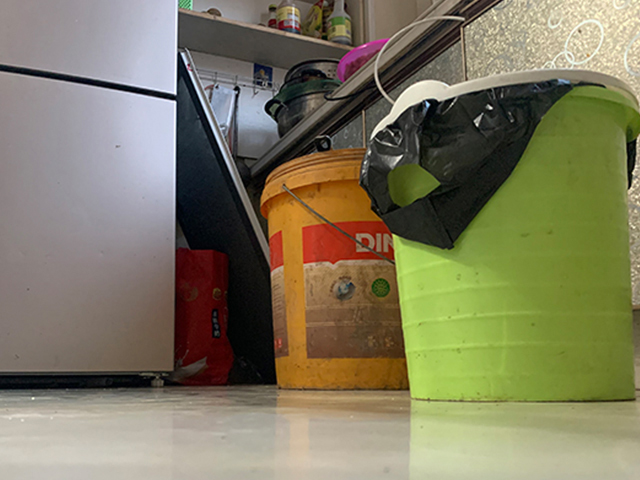trashcan: (366, 68, 640, 403)
